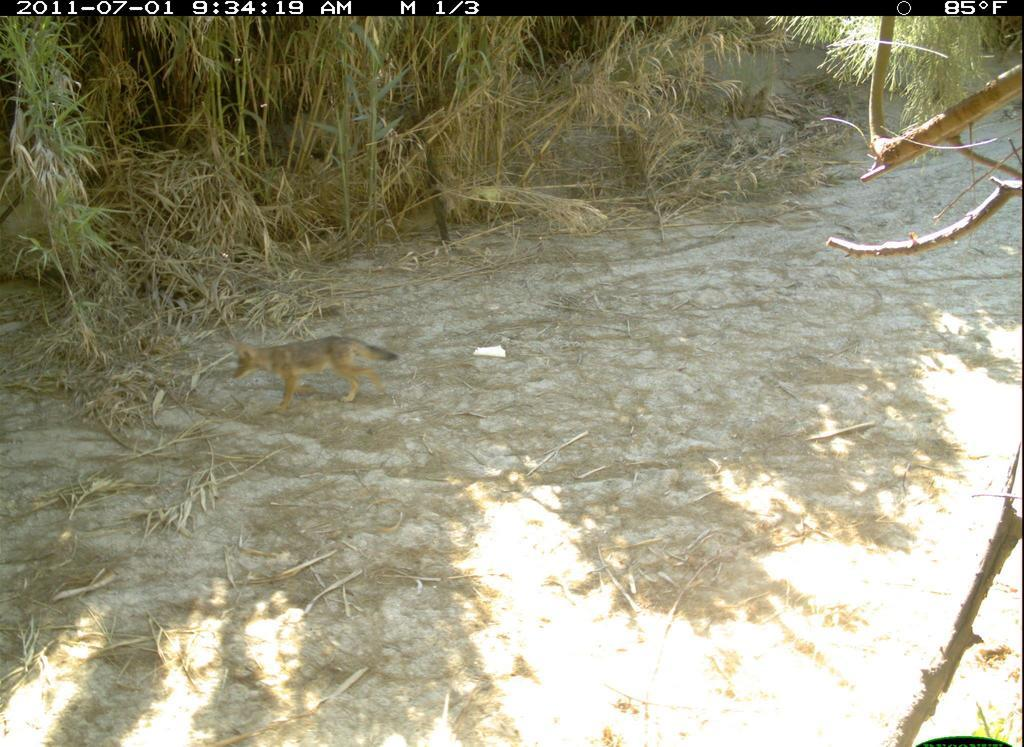coyote: (225, 326, 402, 419)
